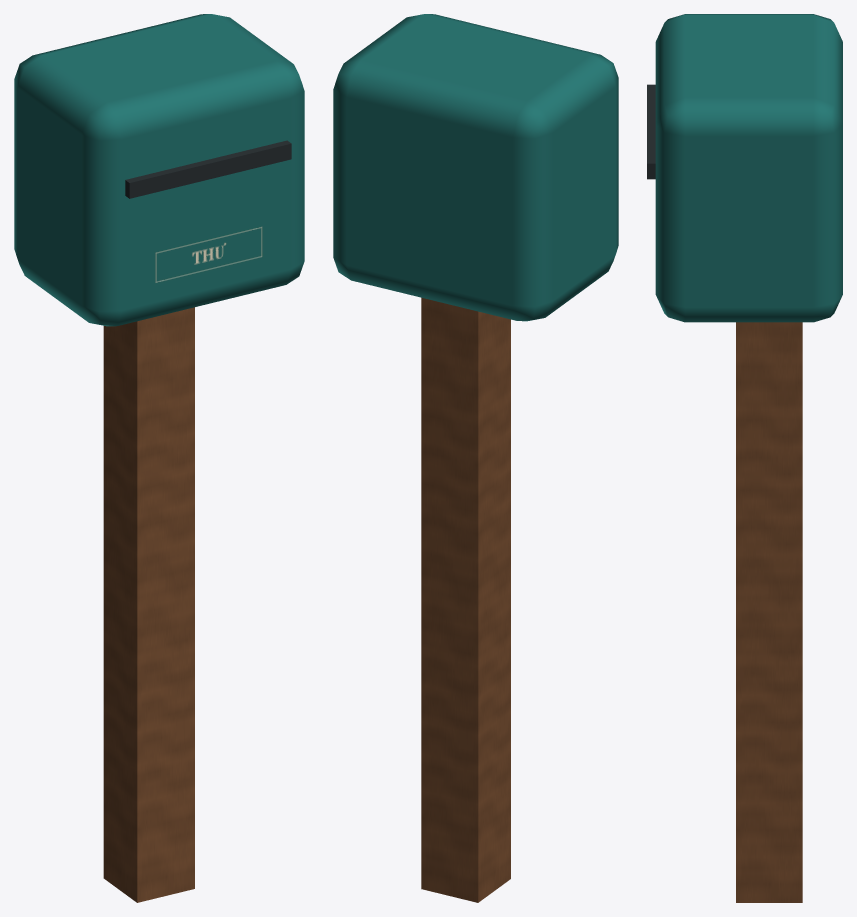
The model's file is mailbox-ae40f8786e6a.glb.
The picture shows the model from 3 angles, left to right: view 1: azimuth 30°, elevation 25°; view 2: azimuth 150°, elevation 25°; view 3: azimuth 270°, elevation 25°; orthographic projection.
Visible parts, largest first — view 1: surface_teal, surface_walnut, surface_sign_THƯteal#f8edcf, surface_ink; view 2: surface_teal, surface_walnut; view 3: surface_teal, surface_walnut, surface_ink.
Part boxes in pixels (left/top/right/bottom): surface_teal: left=14, top=14, right=304, bottom=326; surface_walnut: left=103, top=307, right=194, bottom=902; surface_sign_THƯteal#f8edcf: left=154, top=224, right=263, bottom=285; surface_ink: left=125, top=140, right=291, bottom=198; surface_teal: left=333, top=14, right=618, bottom=321; surface_walnut: left=421, top=297, right=510, bottom=902; surface_teal: left=655, top=14, right=842, bottom=322; surface_walnut: left=736, top=322, right=802, bottom=902; surface_ink: left=647, top=84, right=655, bottom=179.
Size of the model in its own units: 0.38 by 1.37 by 0.293.
Materials: 4 (2 with a texture image).
